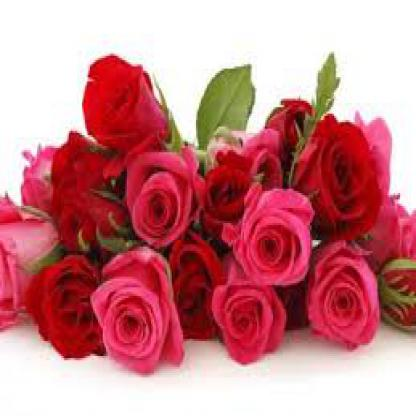Rose-Mawar: (1, 56, 416, 366)
